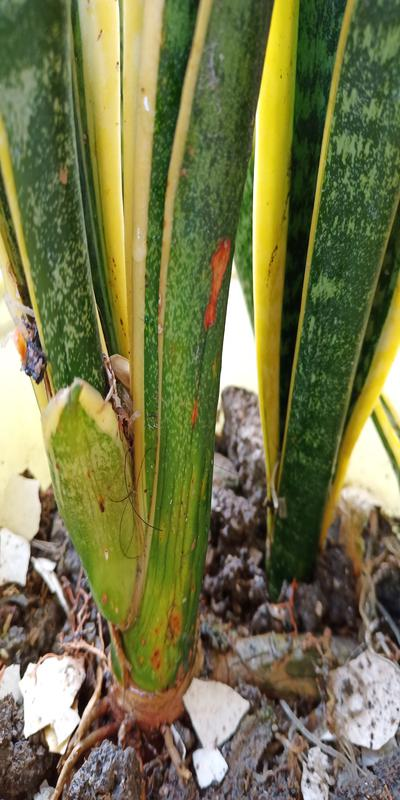Snake plant: (15, 1, 385, 690)
